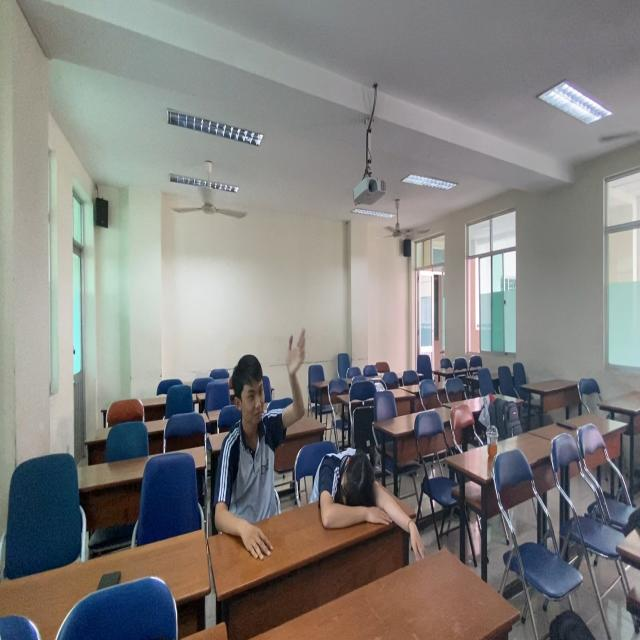raise_hand: (214, 320, 310, 559)
sleep: (313, 443, 401, 533)
